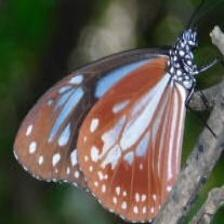butterfly: (14, 29, 198, 222)
